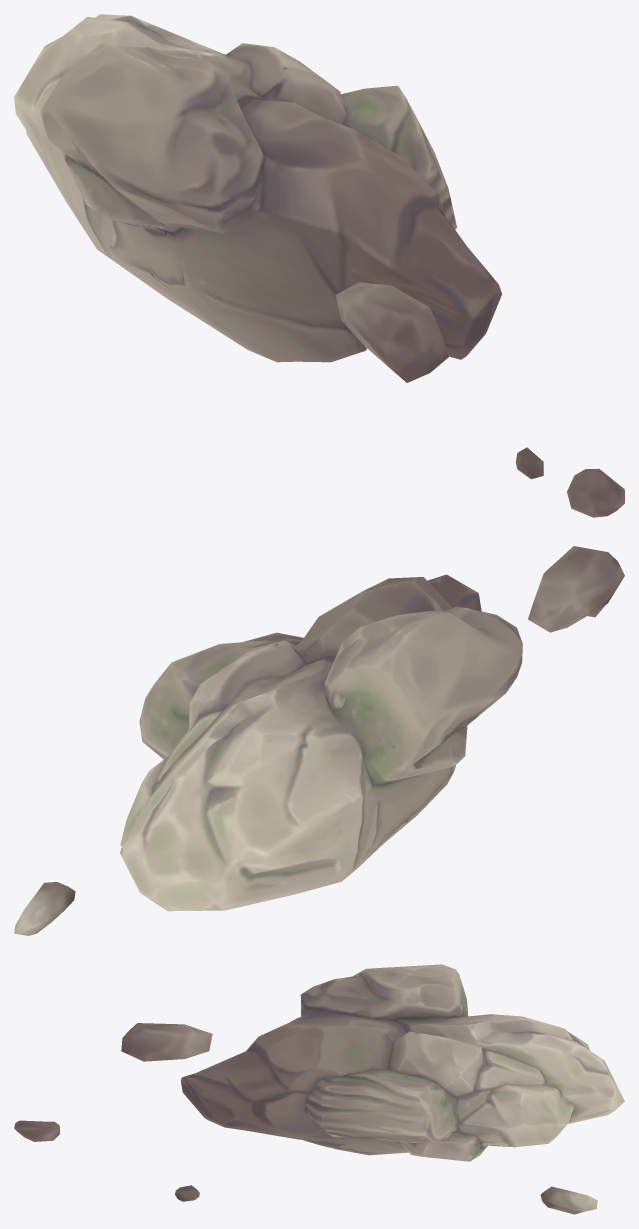
The model's file is roca nueva.fbx.
3 views of the same model, one above another, from view 1: azimuth 30°, elevation 25°; view 2: azimuth 150°, elevation 25°; view 3: azimuth 270°, elevation 25° (orthographic). The views are drawn at different scales.
Parts seen in each view (by area): view 1: rock_lp2_Default_0; view 2: rock_lp2_Default_0; view 3: rock_lp2_Default_0.
Boxes of the visible parts, <box> form: rock_lp2_Default_0: <box>14,14,624,517</box>; rock_lp2_Default_0: <box>14,546,624,935</box>; rock_lp2_Default_0: <box>14,964,624,1214</box>.
Bounding box in the file's own units: 4076 × 3379 × 10361.
